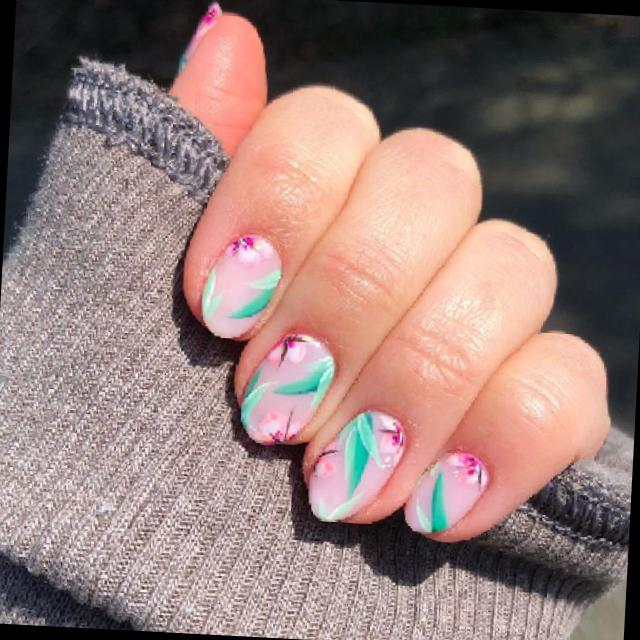Nail: (308, 410, 404, 521), (241, 335, 335, 445), (201, 235, 281, 337), (405, 451, 490, 534), (178, 2, 222, 72)
